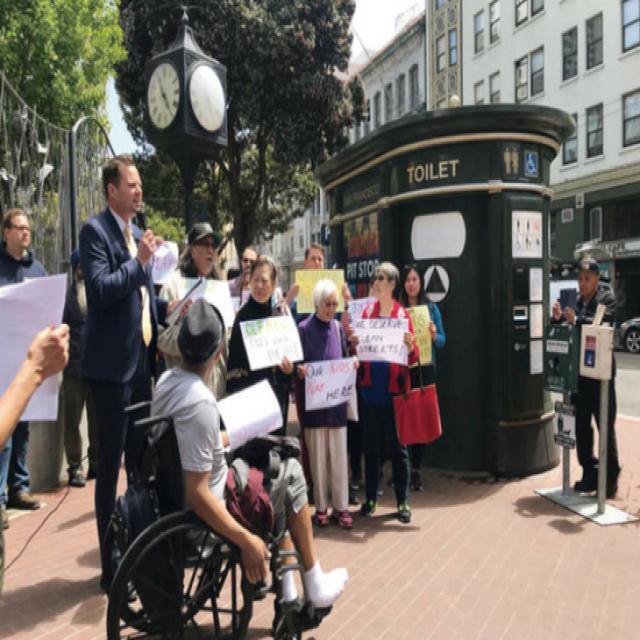wheelchairs: (99, 363, 347, 640)
